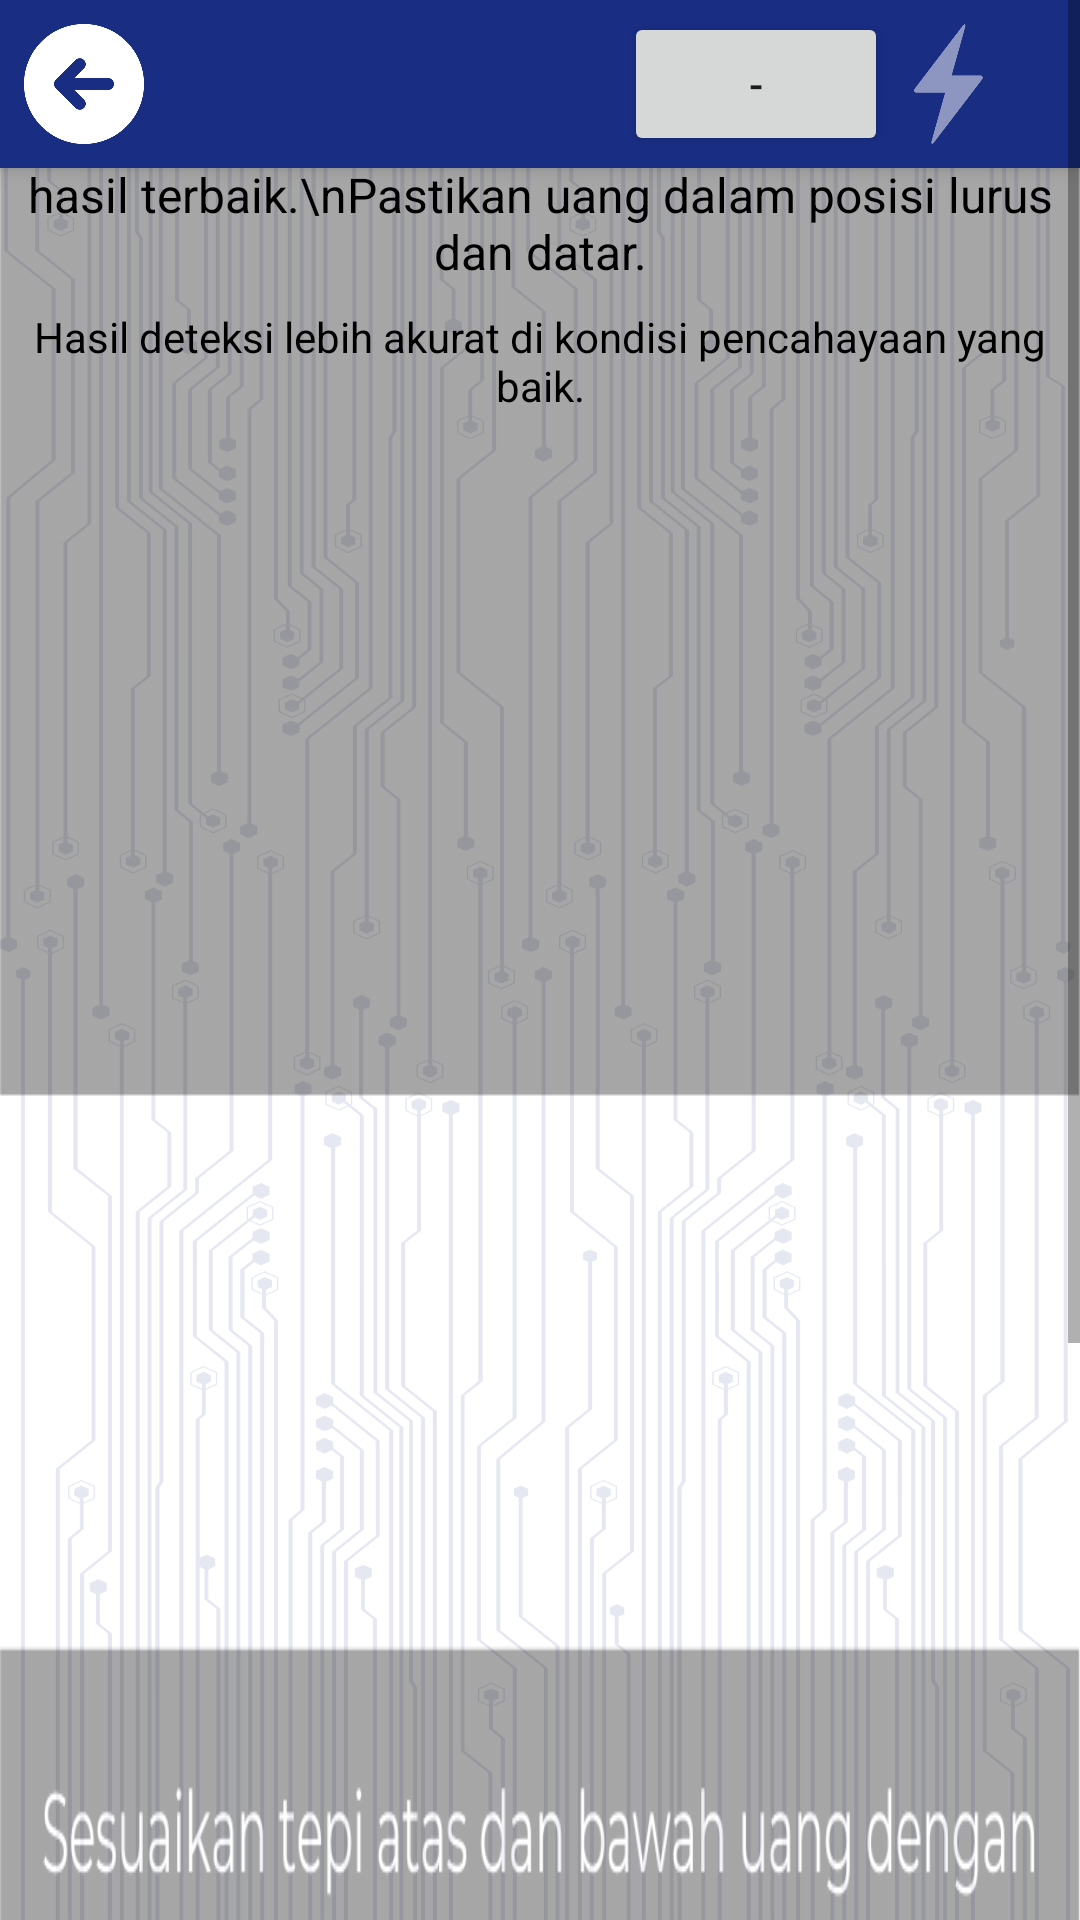

Named icons in this screenshot (1080px x 1920px) and their bounding boxes, (x1, y1, x2, y2):
off: (914, 24, 983, 144)
Tombol Kembali: (24, 24, 144, 144)
